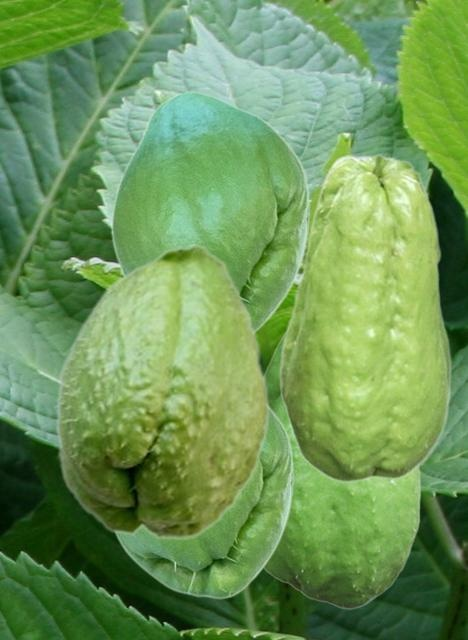sayote: (55, 242, 270, 540), (278, 153, 452, 483), (110, 91, 309, 332), (264, 329, 420, 608), (114, 407, 293, 599)
